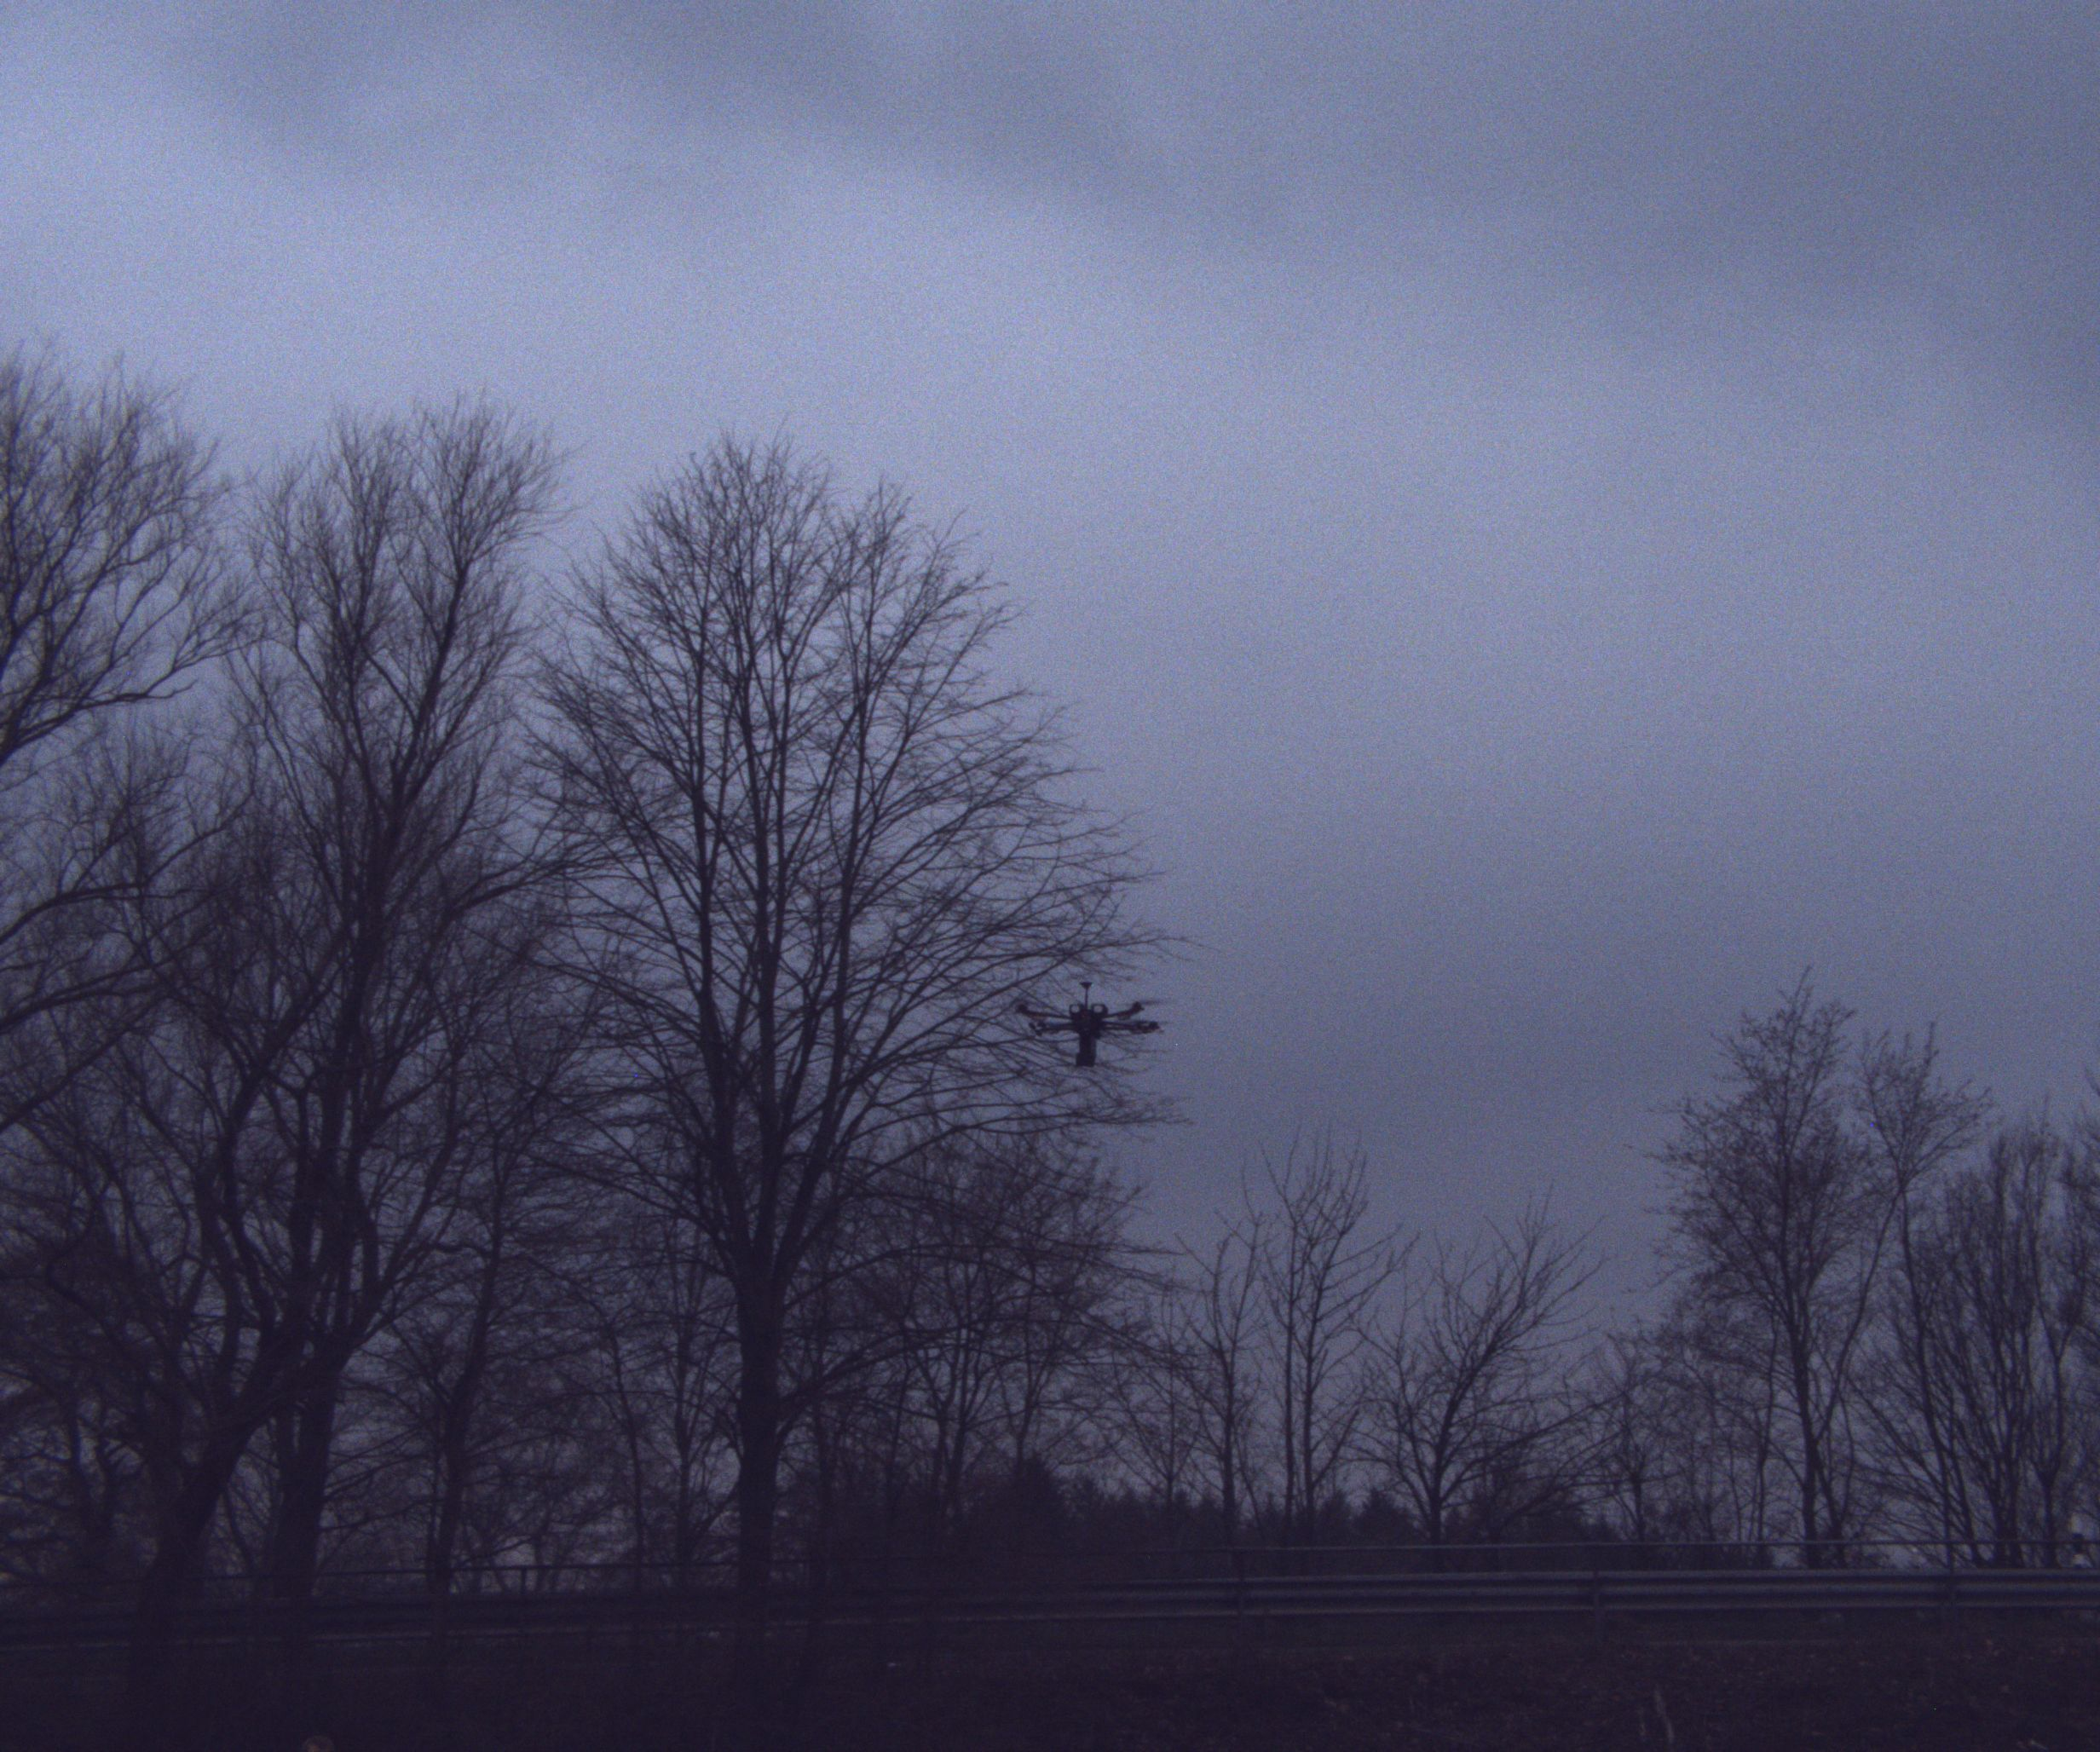Drohne: (1010, 973, 1270, 1137)
